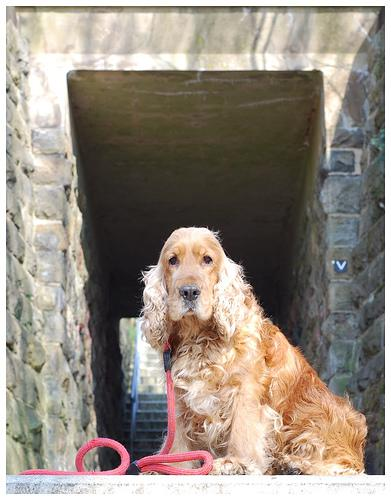dog-english_cocker_spaniel: (141, 225, 244, 347)
